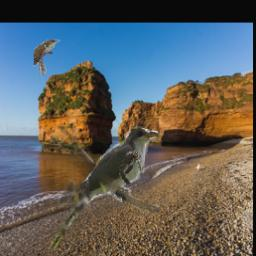Cuckoo: (51, 126, 160, 250), (34, 40, 62, 76)
